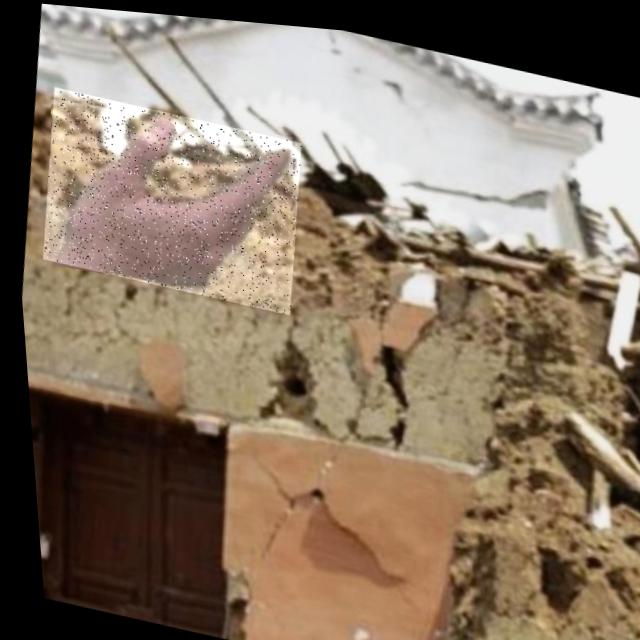Person in Rubble: (29, 84, 310, 312)
